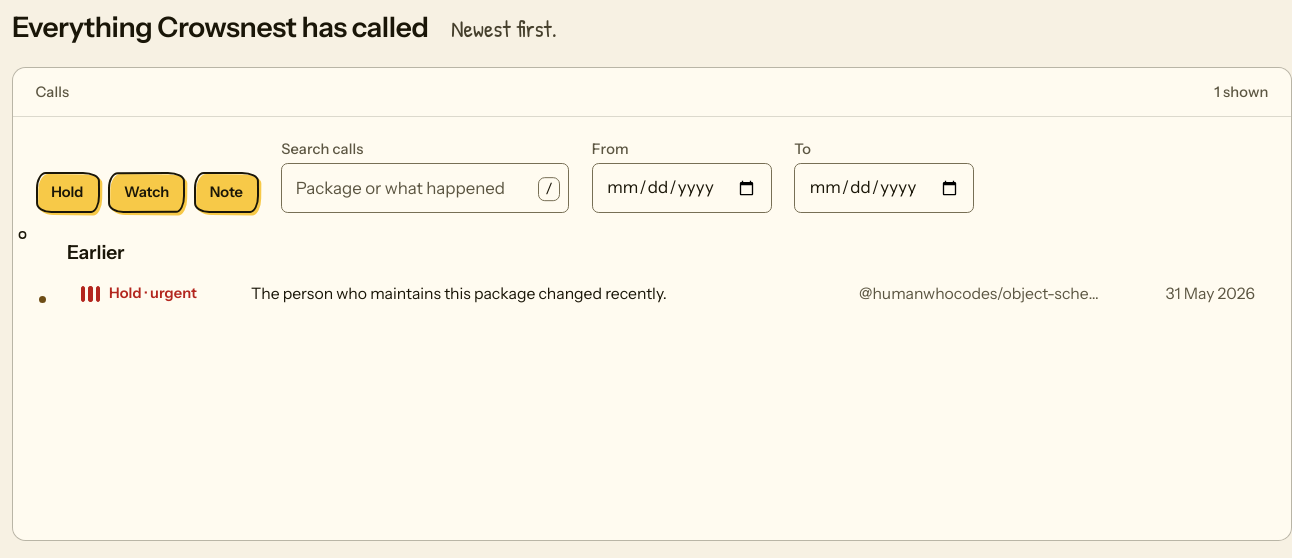
Test: Log › filters by seriousness and says so when nothing matches, with a way back
Click the button "Hold": (67, 193) [36,172,99,213]
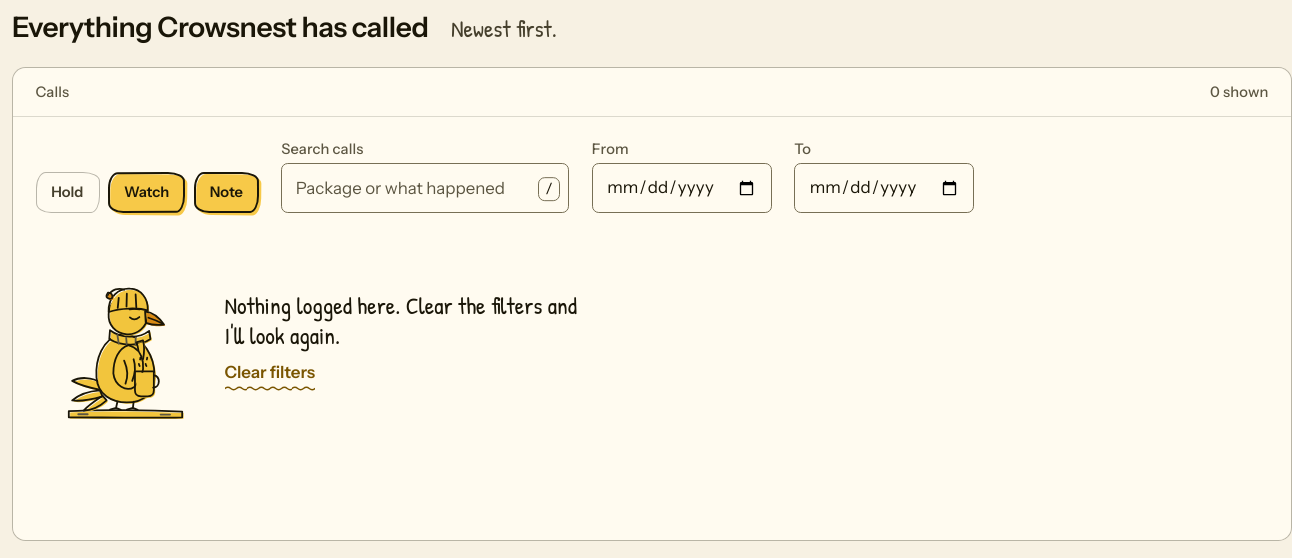
Result: the text "Nothing logged here. Clear the filters and I'll look again." is shown at [224,291,584,350]
Click the button "Clear filters": (270, 373) [224,359,315,386]
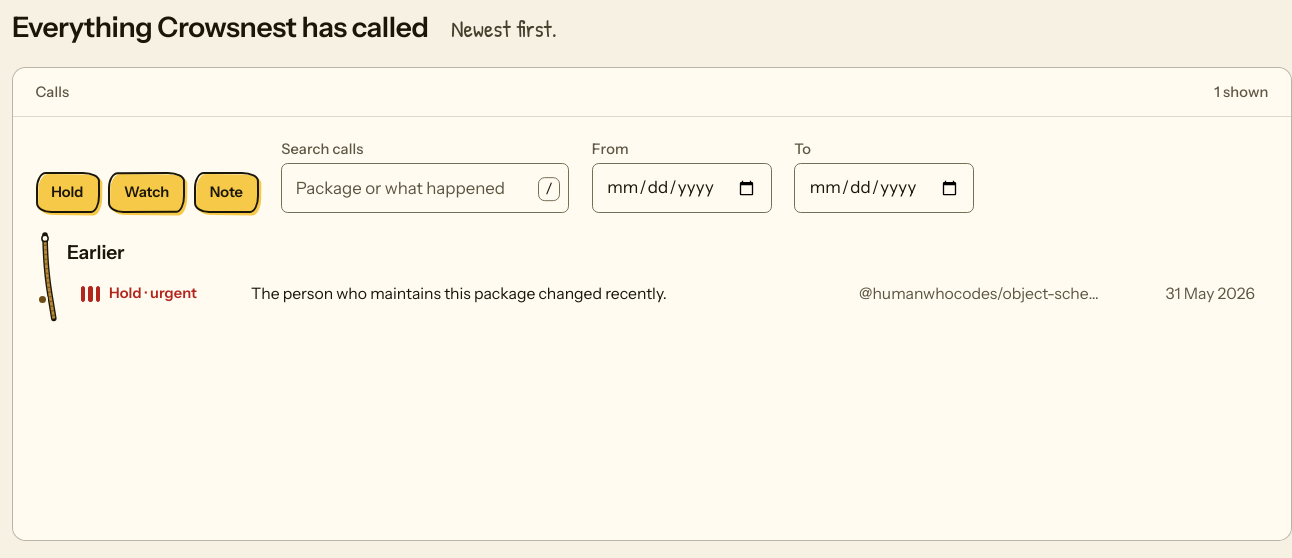
Result: the number of buttons "The person who maintains" is 1 at [67,269,1268,319]
